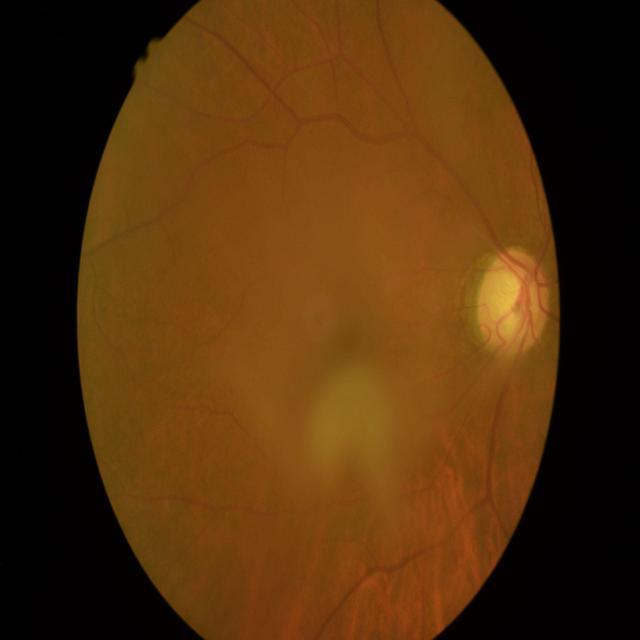cup: (483, 264, 540, 342)
disk: (476, 245, 550, 354)
